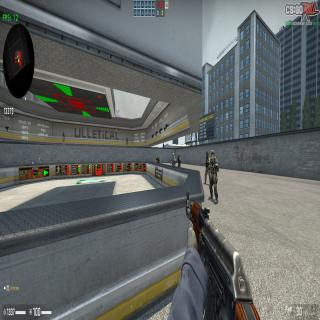CT-Body: (207, 150, 219, 204), (203, 151, 210, 186), (170, 153, 176, 167), (177, 154, 180, 167)
CT-Head: (210, 150, 214, 160), (206, 152, 208, 158), (172, 153, 174, 158), (178, 154, 179, 158)
T-Body: (156, 154, 160, 164)
T-Head: (158, 154, 158, 158)
